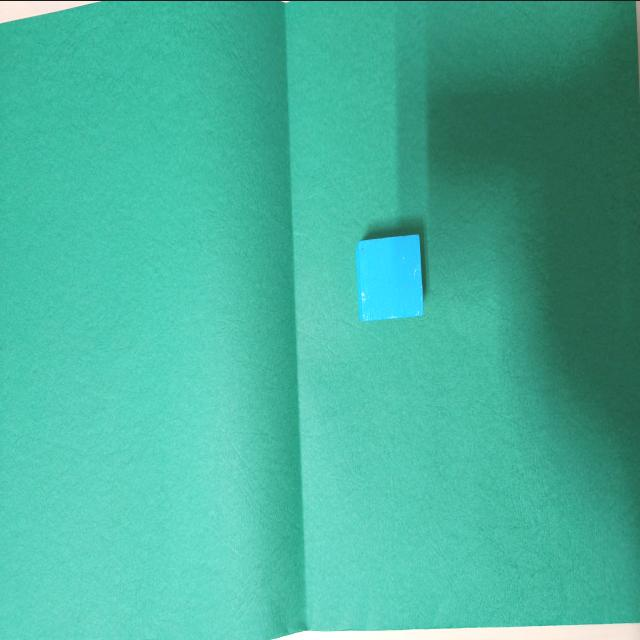blue_block: (360, 235, 422, 319)
